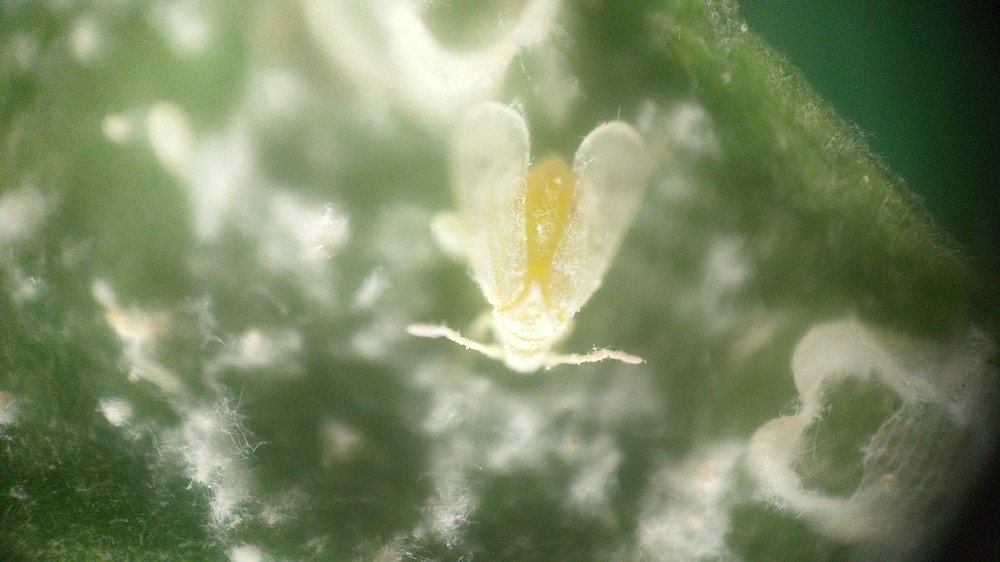Mosca Blanca: (407, 104, 666, 399)
